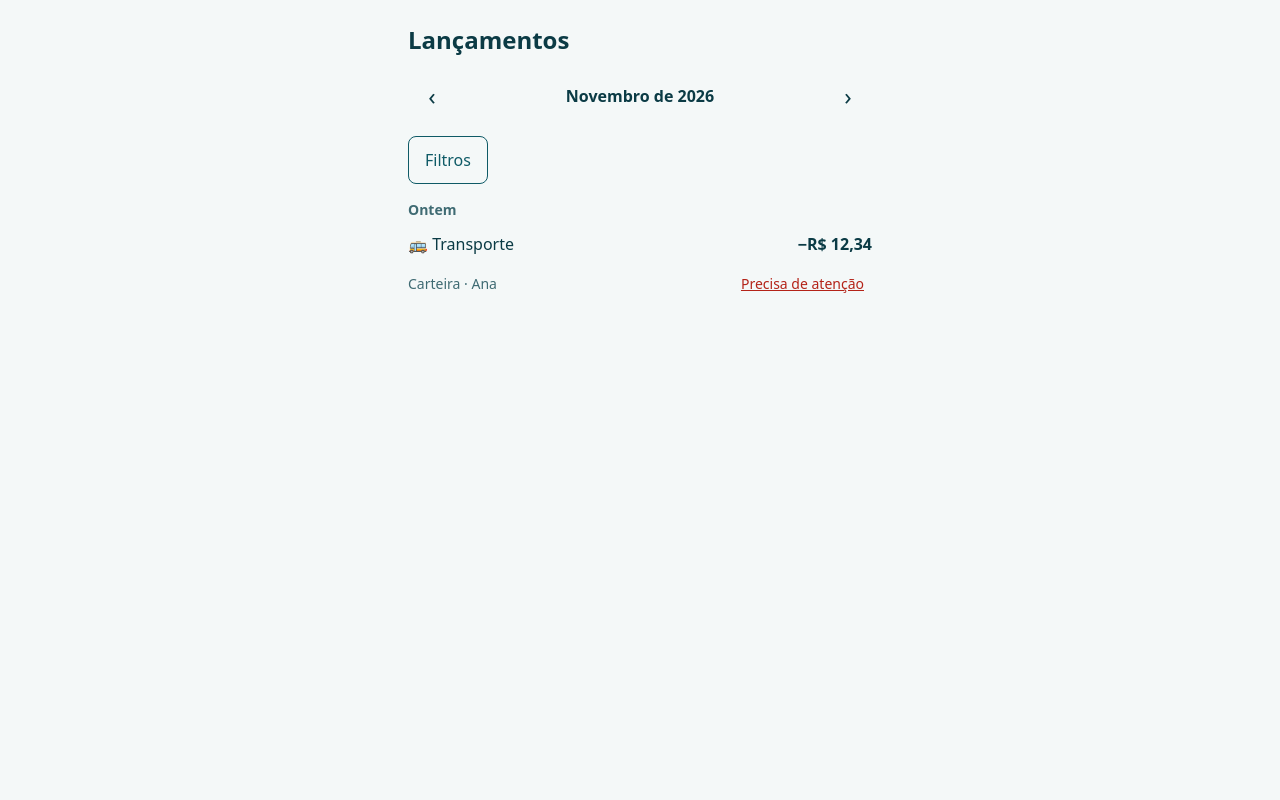
Test: TransactionsPage › keeps a refused expense with Manter
Click the button "Precisa de atenção" at (802, 284), box [733, 260, 872, 308]
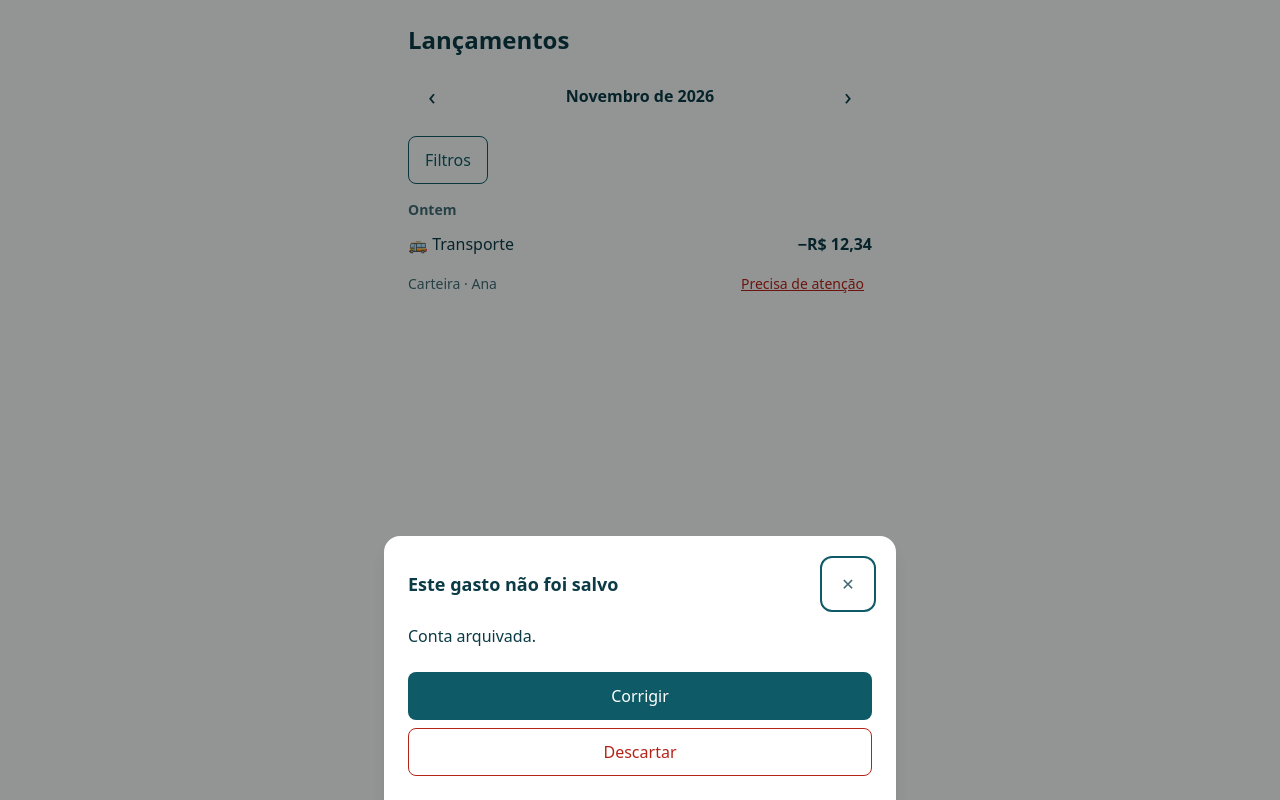
Click the button "Descartar" at (640, 752), box [408, 728, 872, 776]
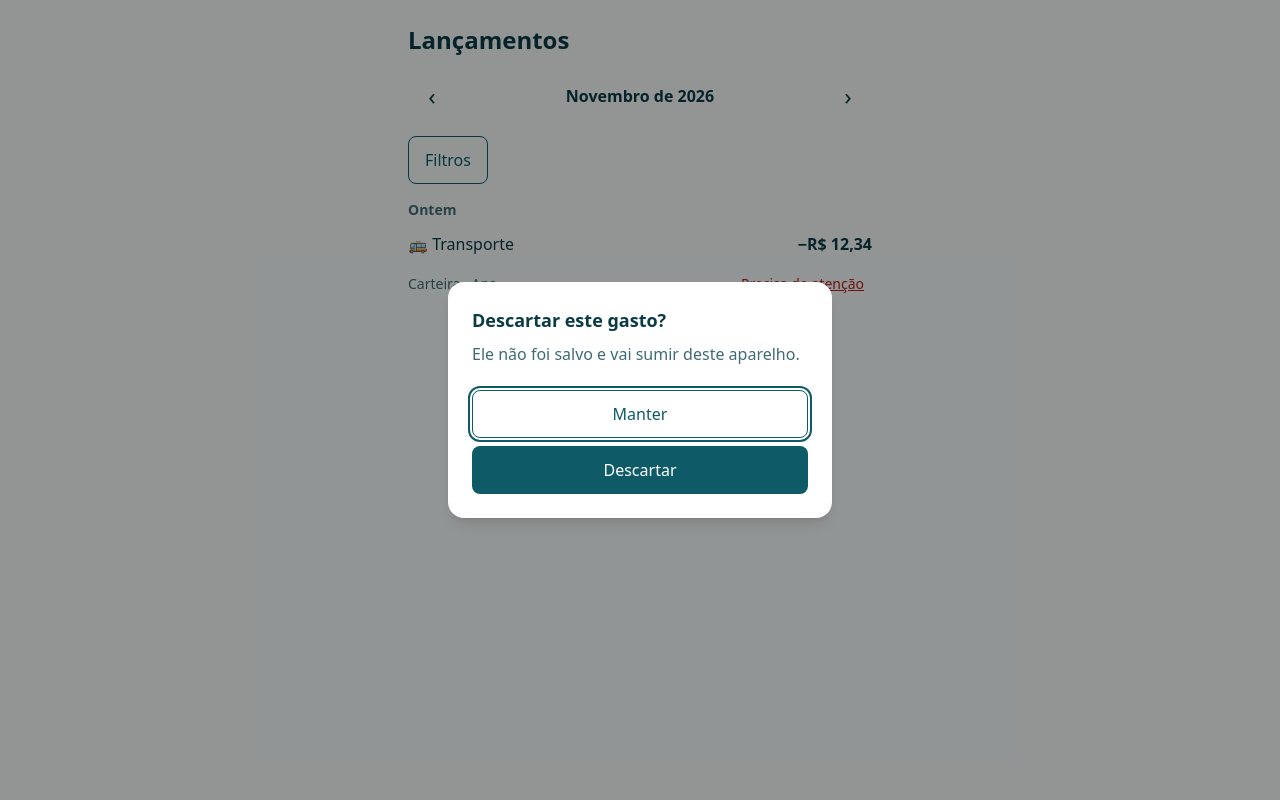
Click the button "Manter" at (640, 414), box [472, 390, 808, 438]
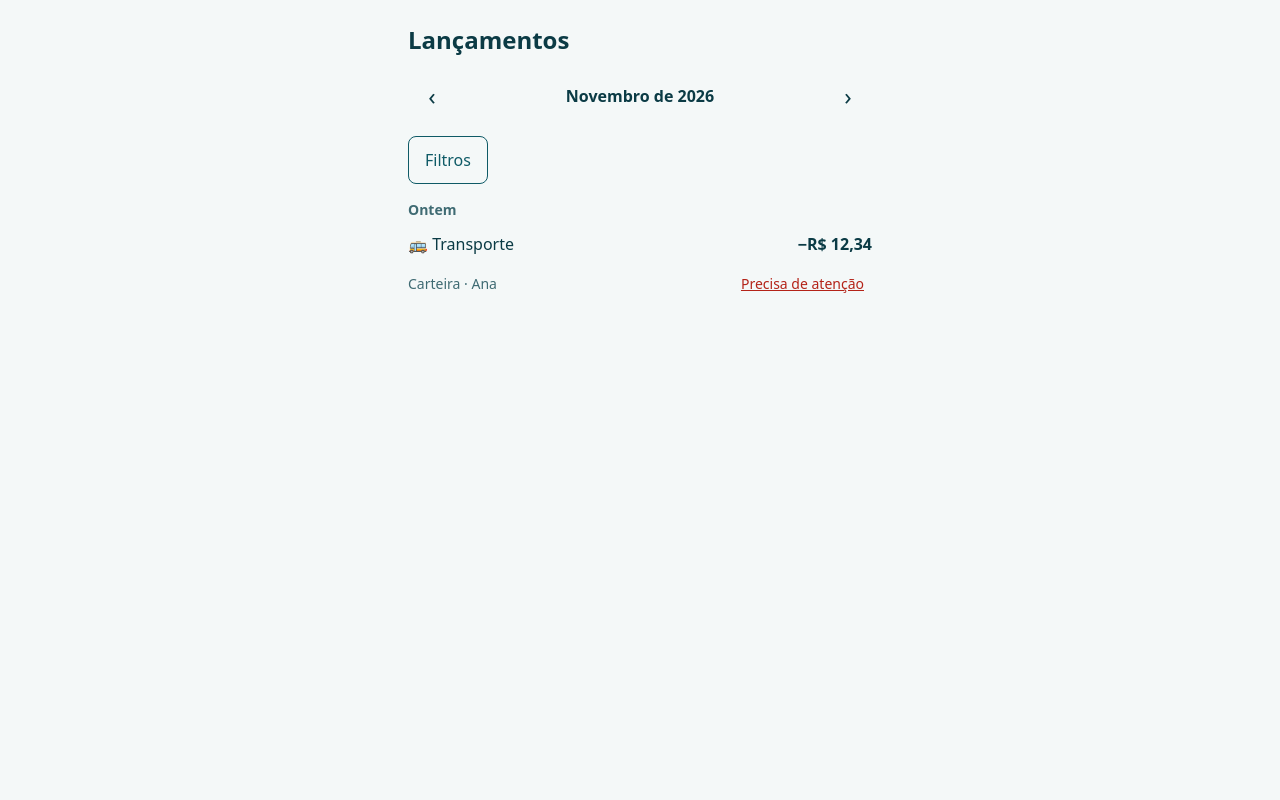
Expected: the text "🚌 Transporte" is shown, [408, 232, 514, 256]
Expected: the dialog is gone
